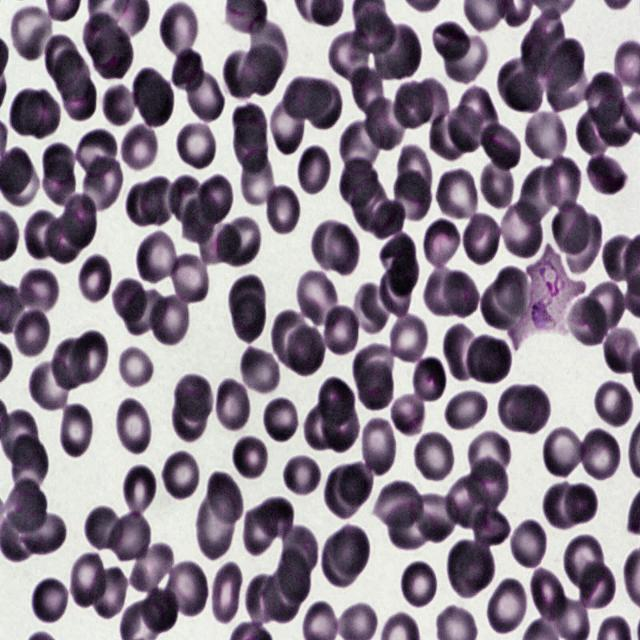red blood cell: (449, 85, 501, 155), (446, 534, 494, 601), (496, 53, 545, 116), (515, 164, 563, 228), (130, 64, 176, 130), (498, 195, 544, 260), (562, 533, 608, 598), (371, 22, 422, 80), (295, 268, 342, 330), (195, 489, 237, 558), (25, 356, 72, 416), (80, 152, 125, 214), (214, 212, 263, 268), (330, 29, 375, 89), (444, 322, 488, 383), (68, 550, 111, 612), (165, 556, 208, 618), (58, 190, 98, 256), (486, 576, 529, 637), (10, 3, 54, 62), (362, 89, 405, 149), (11, 431, 51, 495), (340, 158, 384, 216), (268, 90, 306, 157), (358, 415, 398, 478), (441, 35, 490, 86), (339, 116, 382, 174), (528, 564, 568, 626), (524, 108, 568, 164), (542, 424, 586, 480), (280, 523, 319, 586), (408, 491, 457, 541), (128, 542, 174, 595), (148, 291, 190, 349), (574, 106, 619, 160), (546, 58, 590, 113), (208, 561, 245, 626), (272, 308, 312, 368), (350, 177, 392, 234), (564, 213, 602, 276), (74, 127, 119, 180), (106, 511, 151, 564), (371, 482, 424, 527), (114, 396, 153, 457), (321, 397, 362, 455), (579, 427, 622, 482), (136, 230, 179, 285), (94, 24, 134, 83), (350, 281, 392, 337), (4, 478, 46, 534), (348, 6, 395, 56), (238, 147, 277, 207), (447, 472, 486, 532), (436, 168, 479, 222), (396, 143, 436, 201), (467, 429, 512, 480), (541, 156, 581, 213), (207, 468, 245, 528), (545, 35, 585, 92), (168, 250, 210, 304), (184, 70, 226, 124), (321, 532, 360, 590), (1, 408, 40, 466), (465, 459, 510, 509), (478, 119, 522, 170), (17, 268, 60, 320), (248, 22, 287, 79), (168, 175, 207, 232), (564, 297, 609, 346), (213, 378, 252, 434), (82, 8, 121, 64), (91, 564, 130, 620), (176, 119, 217, 172), (24, 211, 65, 264), (242, 43, 283, 96), (462, 212, 502, 266), (414, 430, 454, 484), (388, 312, 428, 366), (50, 338, 90, 392), (20, 509, 68, 554), (467, 501, 510, 551), (324, 467, 366, 518), (595, 96, 636, 148), (266, 565, 302, 624), (162, 449, 201, 503), (322, 303, 361, 357), (592, 378, 634, 428), (424, 266, 466, 316), (542, 479, 584, 529), (220, 49, 260, 101), (57, 402, 94, 458), (422, 217, 461, 270), (228, 275, 267, 328), (156, 5, 198, 54), (12, 304, 50, 358), (263, 183, 301, 237), (239, 346, 280, 396), (303, 80, 344, 130), (279, 546, 312, 608), (310, 218, 350, 269), (42, 32, 82, 83), (120, 463, 157, 518), (1, 512, 40, 564), (444, 386, 486, 434), (509, 517, 547, 570), (84, 505, 125, 554), (46, 216, 87, 265), (496, 382, 536, 432), (30, 575, 70, 625), (142, 584, 182, 634), (584, 280, 624, 330), (442, 270, 482, 320), (392, 170, 432, 220), (464, 333, 503, 384), (0, 153, 38, 205), (586, 151, 628, 198), (121, 121, 158, 174), (295, 143, 332, 196), (54, 47, 91, 100), (601, 231, 638, 284), (480, 159, 520, 208), (330, 527, 370, 576), (586, 73, 626, 122), (262, 394, 300, 445), (394, 78, 432, 129), (356, 361, 394, 412), (388, 505, 433, 548), (410, 353, 447, 405), (483, 279, 523, 327), (318, 373, 357, 422), (59, 73, 98, 122), (76, 252, 112, 305), (553, 201, 589, 254), (231, 433, 269, 483), (288, 326, 326, 376), (352, 345, 394, 390), (27, 88, 62, 142), (175, 372, 212, 423), (181, 193, 218, 244), (123, 290, 163, 337), (577, 562, 617, 609), (528, 7, 566, 56), (8, 88, 46, 137), (74, 329, 109, 382), (200, 224, 243, 267), (248, 574, 282, 628), (197, 175, 233, 226), (430, 114, 468, 162), (170, 394, 208, 442), (117, 344, 154, 393), (397, 562, 438, 606), (391, 389, 427, 439), (142, 176, 178, 226), (448, 104, 484, 154), (335, 460, 373, 507), (602, 327, 639, 375), (289, 75, 331, 117), (303, 404, 340, 451), (413, 78, 450, 125), (520, 28, 554, 79), (232, 292, 264, 346), (42, 159, 78, 207), (512, 387, 549, 433), (376, 271, 412, 318), (232, 103, 268, 150), (352, 66, 385, 117), (495, 268, 530, 316), (234, 118, 269, 166), (369, 200, 408, 243), (100, 82, 136, 128), (253, 498, 294, 538), (434, 21, 471, 64), (125, 183, 162, 226), (380, 230, 416, 274), (388, 250, 421, 298), (113, 276, 147, 322), (245, 506, 277, 554), (478, 340, 512, 384), (331, 226, 361, 275), (40, 143, 76, 183), (284, 454, 320, 494), (172, 48, 203, 93), (565, 484, 597, 523)
trophozoite: (509, 242, 584, 349)
